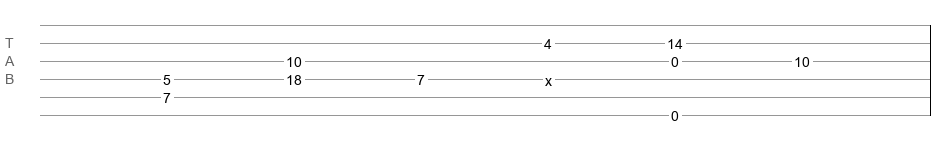0: (671, 54, 679, 64), (671, 108, 679, 118)
10: (286, 54, 302, 64), (794, 54, 810, 64)
14: (667, 36, 683, 46)
18: (286, 72, 302, 82)
4: (544, 36, 552, 46)
5: (163, 72, 171, 82)
7: (163, 90, 171, 100), (417, 72, 425, 82)
x: (545, 73, 552, 81)
